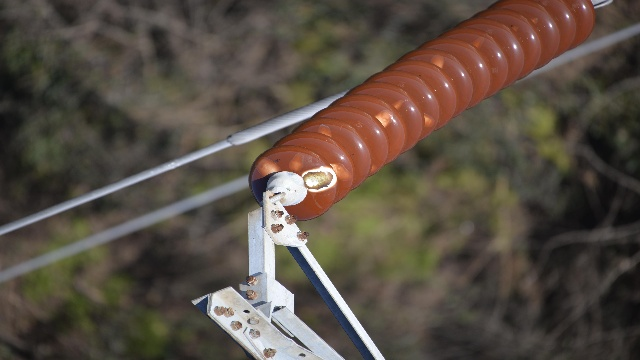insulator_unspecified: (248, 0, 597, 220)
pollution_flashover_local: (303, 165, 337, 191), (256, 153, 276, 181), (374, 109, 394, 127), (312, 119, 331, 137), (432, 53, 446, 69), (421, 112, 433, 126), (391, 100, 408, 108)
